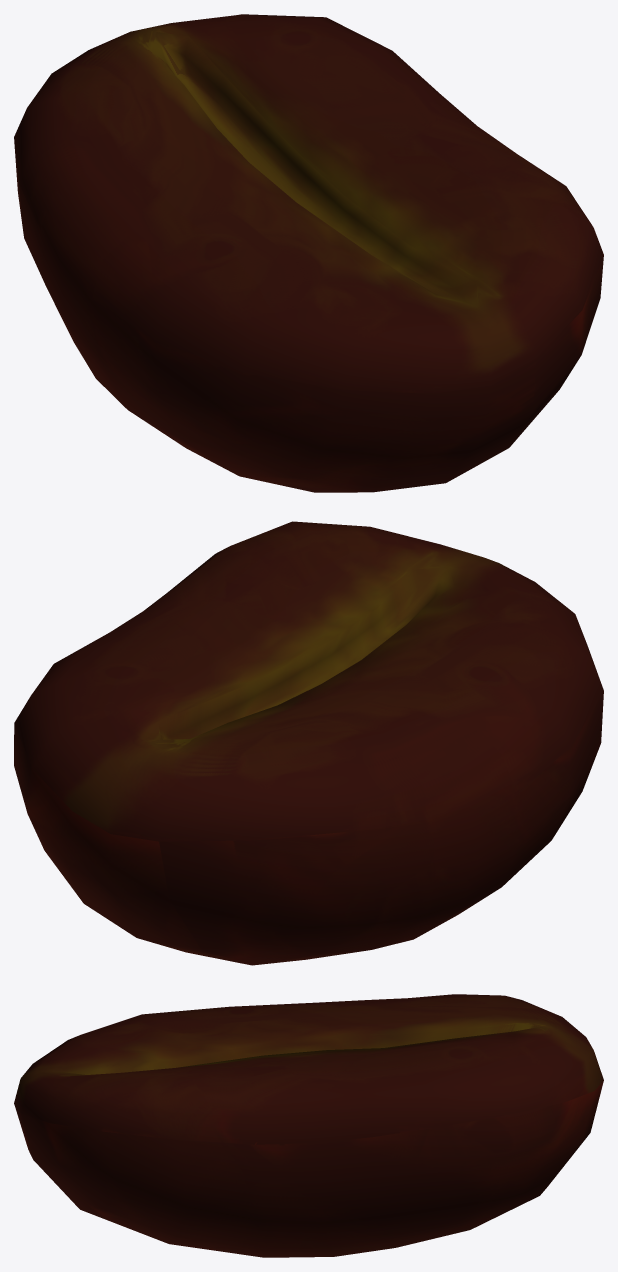
File: beans.glb
3 views of the same model, one above another, from view 1: azimuth 30°, elevation 25°; view 2: azimuth 150°, elevation 25°; view 3: azimuth 270°, elevation 25° (orthographic). The views are drawn at different scales.
Visible parts, largest first — view 1: Cube.049; view 2: Cube.049; view 3: Cube.049.
Boxes of the visible parts, x1,y1,x2,y2 form: Cube.049: [14, 14, 603, 492]; Cube.049: [14, 521, 603, 965]; Cube.049: [14, 994, 603, 1257].
Size of the model in its own units: 0.7041 by 0.5081 by 1.18.
1 material, 1 textured.
